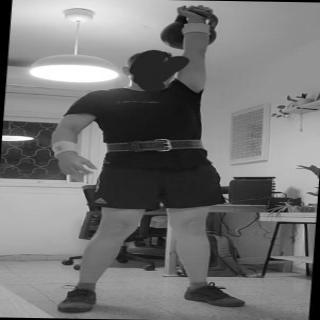kettlebell: (161, 4, 227, 53)
